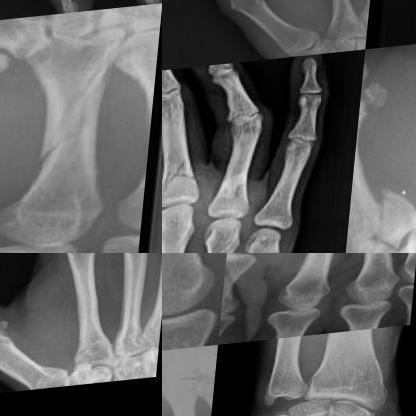fracture: (33, 76, 130, 177), (360, 189, 415, 252), (162, 150, 209, 194)
